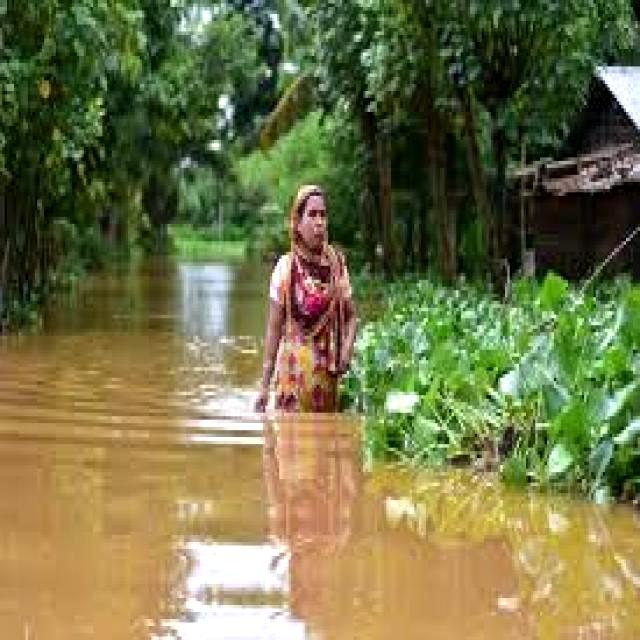civilian: (245, 177, 372, 430)
